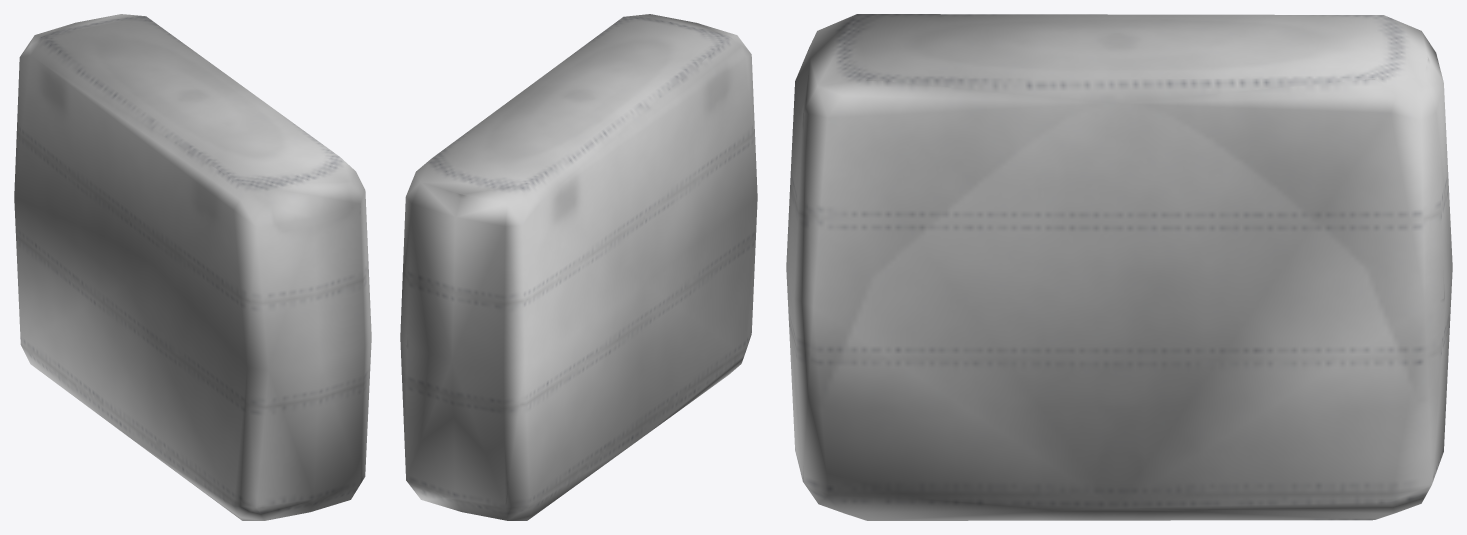
File: RightHand_C1.fbx
The picture shows the model from 3 angles, left to right: view 1: azimuth 30°, elevation 25°; view 2: azimuth 150°, elevation 25°; view 3: azimuth 270°, elevation 25°; orthographic projection. The views are drawn at different scales.
Visible parts, largest first — view 1: Civ_Maletin_RightHand_C1; view 2: Civ_Maletin_RightHand_C1; view 3: Civ_Maletin_RightHand_C1.
Part boxes in pixels (left/top/right/bottom): Civ_Maletin_RightHand_C1: left=14, top=14, right=371, bottom=520; Civ_Maletin_RightHand_C1: left=400, top=14, right=757, bottom=520; Civ_Maletin_RightHand_C1: left=786, top=14, right=1452, bottom=520.
Bounding box in the file's own units: 0.426 × 1.07 × 1.43.
